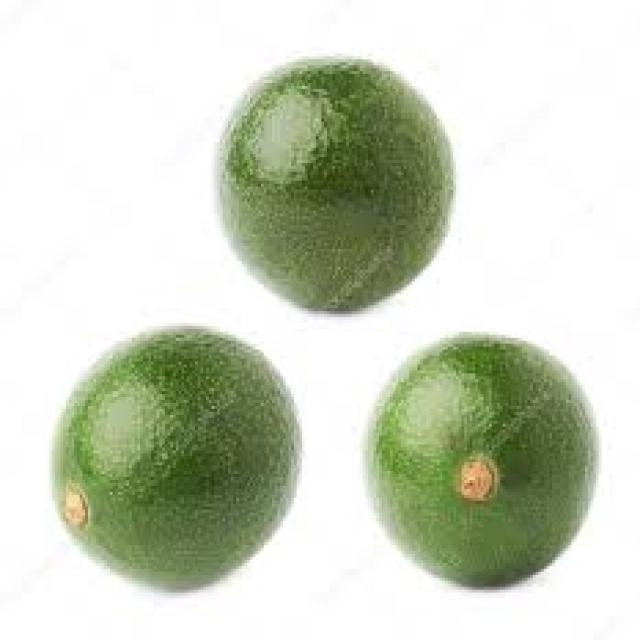organic waste: (47, 323, 302, 590), (209, 56, 453, 314), (363, 329, 596, 590)
